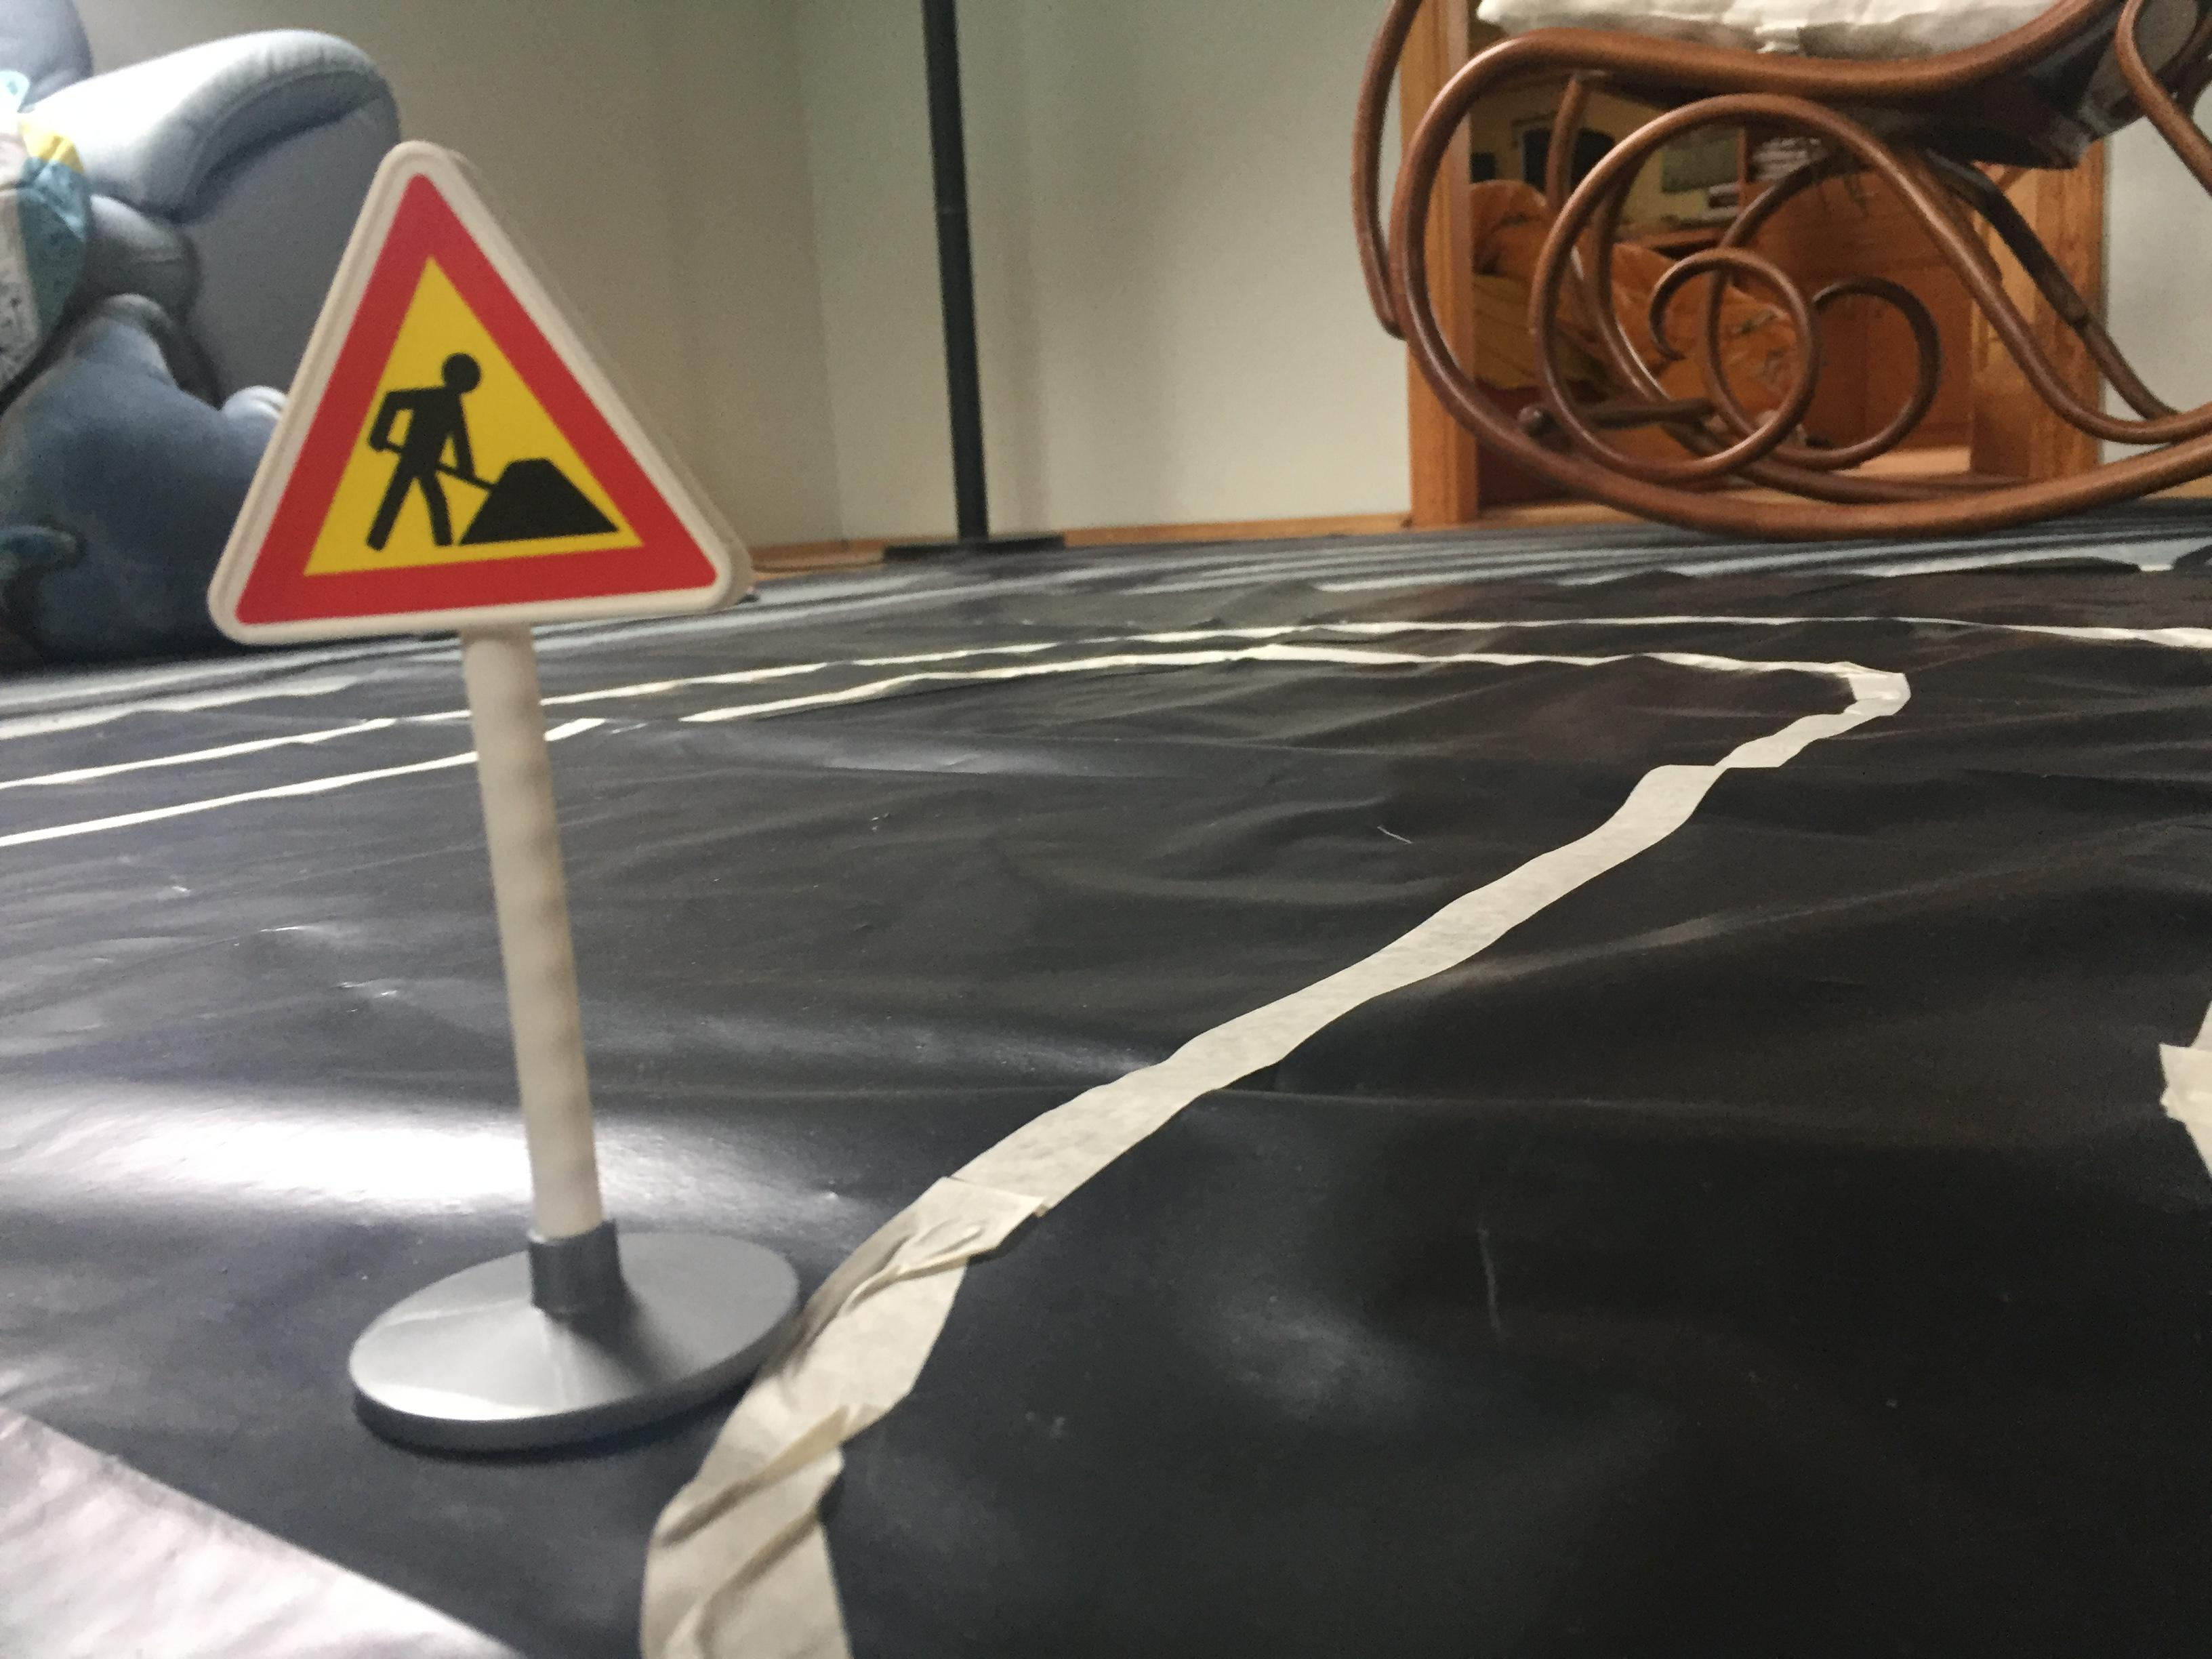work: (193, 138, 761, 662)
